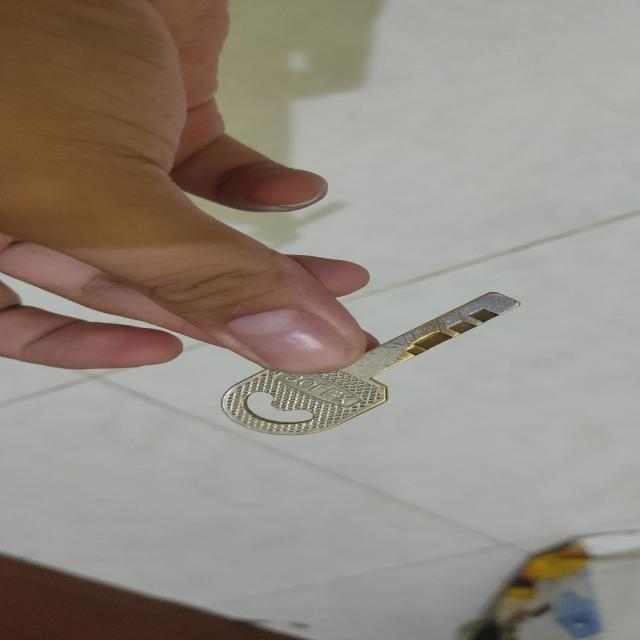kunci_pagar: (210, 288, 539, 450)
